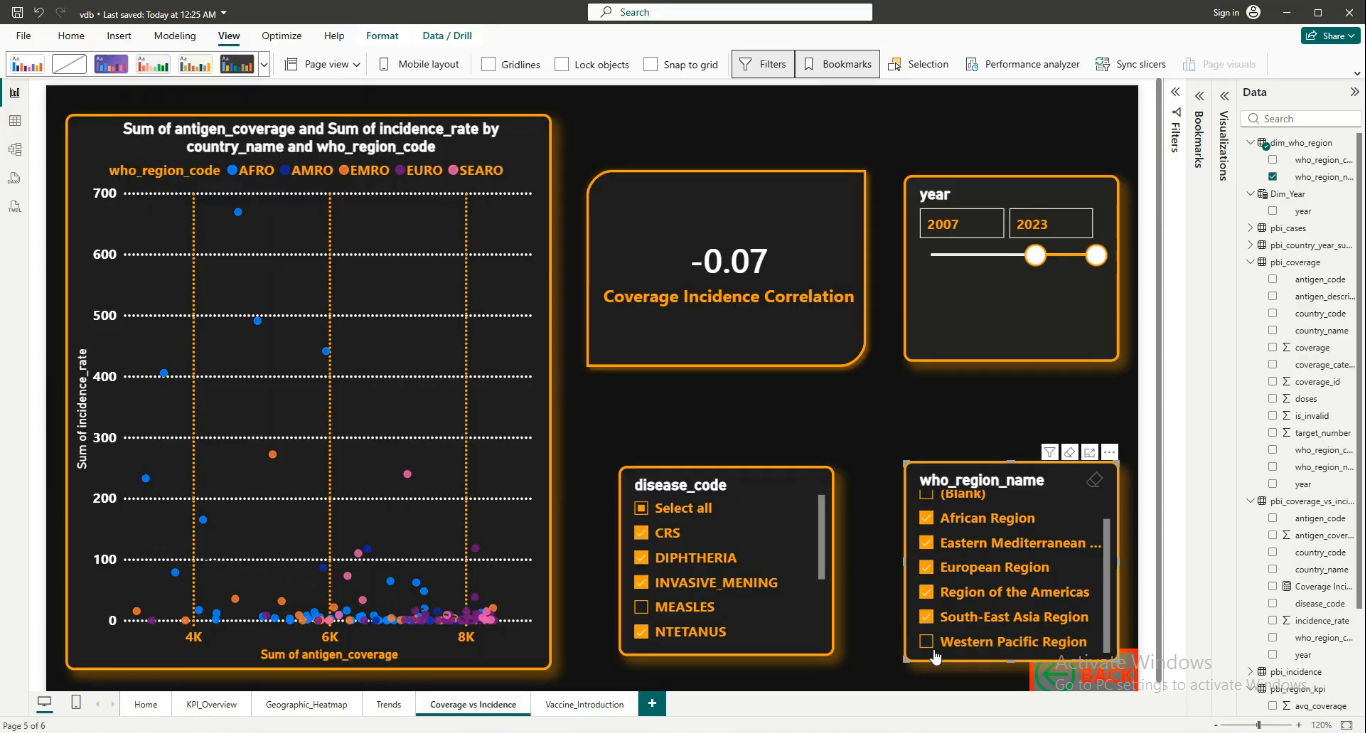

What the dashboard file says about the page in this screenshot:
{"tool":"powerbi","page":{"name":"Coverage vs Incidence","canvas":[1280,720],"ordinal":4},"visuals":[{"type":"scatterChart","fields":{"Category":["pbi_coverage_vs_incidence.country_name"],"Series":["pbi_coverage_vs_incidence.who_region_code"],"X":["Sum(pbi_coverage_vs_incidence.antigen_coverage)"],"Y":["Sum(pbi_coverage_vs_incidence.incidence_rate)"]},"box":[17.5,23.6,570.1,652.3],"z":0},{"type":"slicer","fields":{"Values":["pbi_coverage_vs_incidence.disease_code"]},"box":[670.8,445.8,253,222.8],"z":1000},{"type":"slicer","fields":{"Values":["Dim_Year.year"]},"box":[1004.7,104.8,253,219],"z":2000},{"type":"slicer","fields":{"Values":["dim_who_region.who_region_name"]},"box":[1004.7,439.7,253,236],"z":3000},{"type":"cardVisual","fields":{"Data":["pbi_coverage_vs_incidence.Coverage Incidence Correlation"]},"box":[604,69.9,386.3,289.7],"z":4000},{"type":"actionButton","box":[1152.2,659.7,127.8,60],"z":5000}]}

Visuals, with their boxes on the page's 1280x720 design canvas (x1, y1, x2, y2). These are canvas units, not pixel positions in the 1366x733 screenshot, which may show the page scaled, cropped or inside an application window:
scatterChart - pbi_coverage_vs_incidence.country_name x pbi_coverage_vs_incidence.who_region_code: 18/24/588/676
slicer - pbi_coverage_vs_incidence.disease_code: 671/446/924/669
slicer - Dim_Year.year: 1005/105/1258/324
slicer - dim_who_region.who_region_name: 1005/440/1258/676
cardVisual - pbi_coverage_vs_incidence.Coverage Incidence Correlation: 604/70/990/360
actionButton: 1152/660/1280/720
